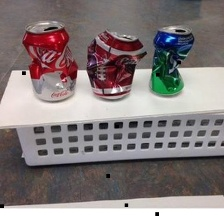can: (82, 25, 148, 102), (21, 18, 79, 103), (146, 22, 196, 95)
